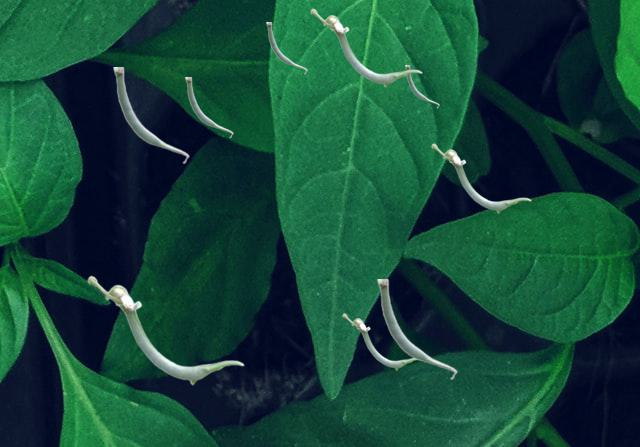french_bean: (87, 275, 243, 384), (310, 8, 421, 86), (377, 279, 456, 379), (113, 67, 188, 163), (431, 143, 530, 212), (342, 313, 415, 369), (185, 77, 232, 137), (266, 22, 306, 73), (405, 65, 438, 107)
